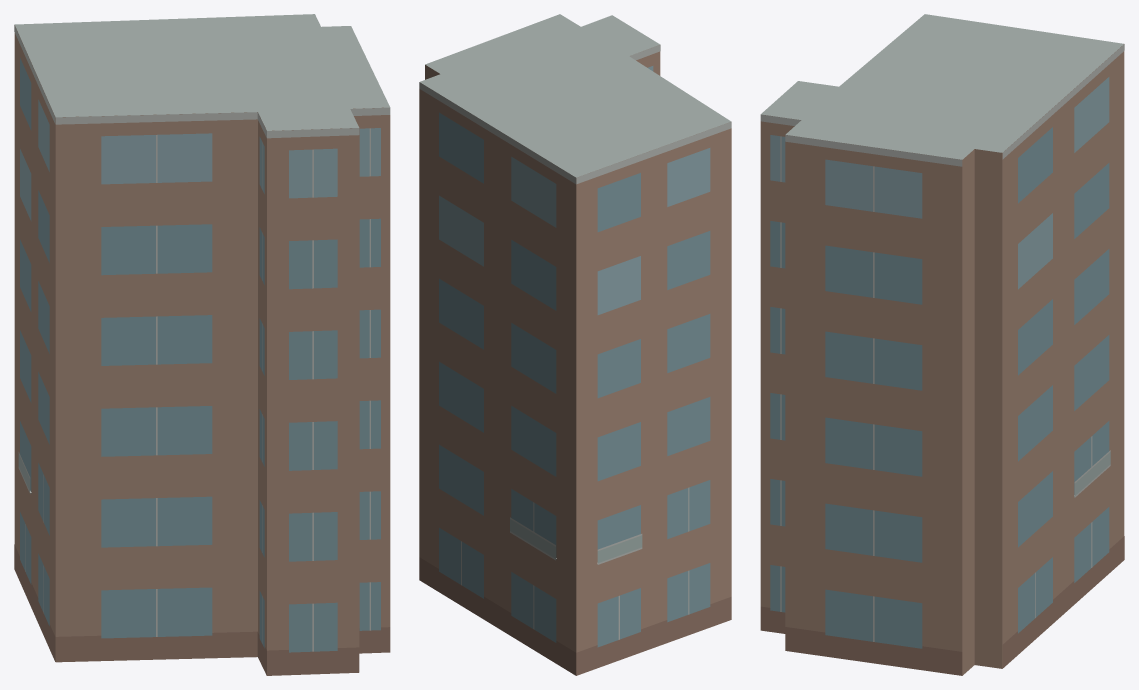
File: survey-upis-33036440.glb
3 views of the same model, side by side, from view 1: azimuth 30°, elevation 25°; view 2: azimuth 150°, elevation 25°; view 3: azimuth 270°, elevation 25° (orthographic). The views are drawn at different scales.
Visible parts, largest first — view 1: survey-upis-33036440.tmp; view 2: survey-upis-33036440.tmp; view 3: survey-upis-33036440.tmp.
Part boxes in pixels (x1=…): survey-upis-33036440.tmp: x1=14, y1=14, x2=390, y2=675; survey-upis-33036440.tmp: x1=419, y1=14, x2=731, y2=675; survey-upis-33036440.tmp: x1=760, y1=14, x2=1124, y2=675.
Size of the model in its own units: 10.98 by 18.1 by 11.58.
